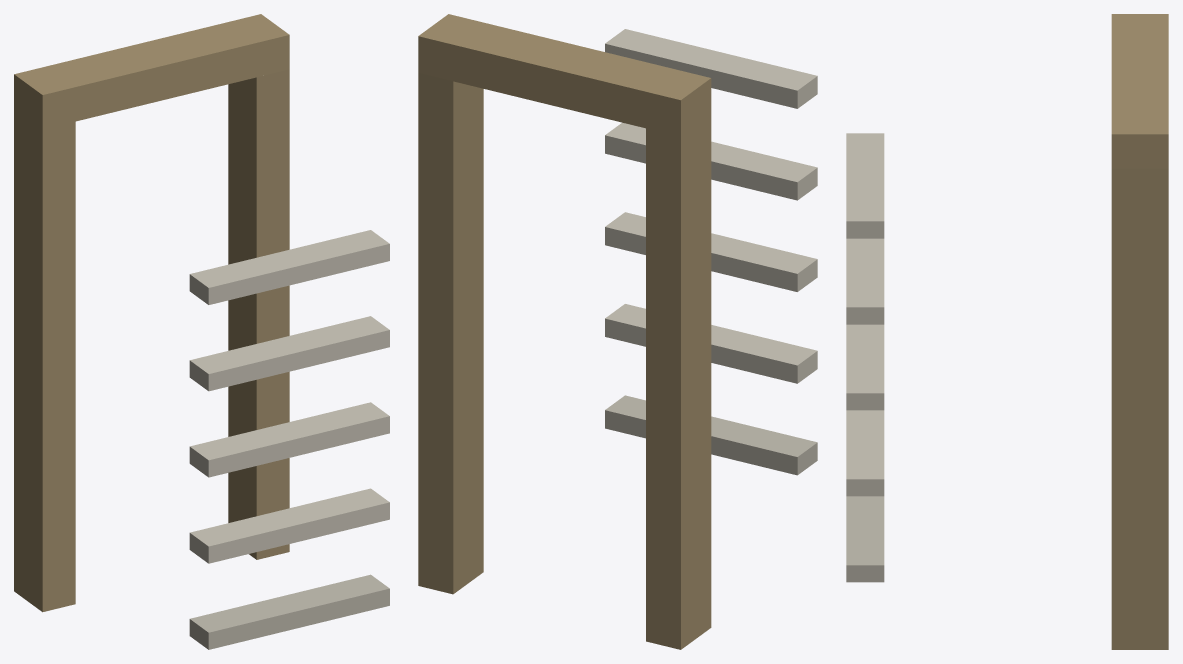
The model's file is telar_desgastada_01.glb.
3 views of the same model, side by side, from view 1: azimuth 30°, elevation 25°; view 2: azimuth 150°, elevation 25°; view 3: azimuth 270°, elevation 25° (orthographic). The views are drawn at different scales.
Parts seen in each view (by area): view 1: telar_desgastada; view 2: telar_desgastada; view 3: telar_desgastada.
Part boxes in pixels (<box>): telar_desgastada: <box>14,14,389,649</box>; telar_desgastada: <box>418,14,817,649</box>; telar_desgastada: <box>846,14,1168,649</box>.
Bounding box in the file's own units: 1 × 2 × 1.13.
